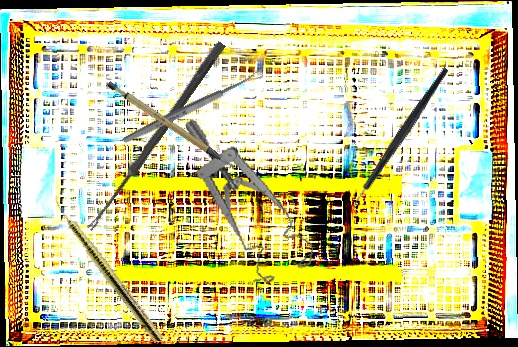Chopper: (315, 66, 487, 219)
Handpiece: (47, 194, 166, 344)
Scalpel Handle: (105, 66, 236, 188)
Speculum: (184, 100, 318, 293)
Surgical Spoon: (86, 39, 226, 234), (121, 68, 265, 146)
